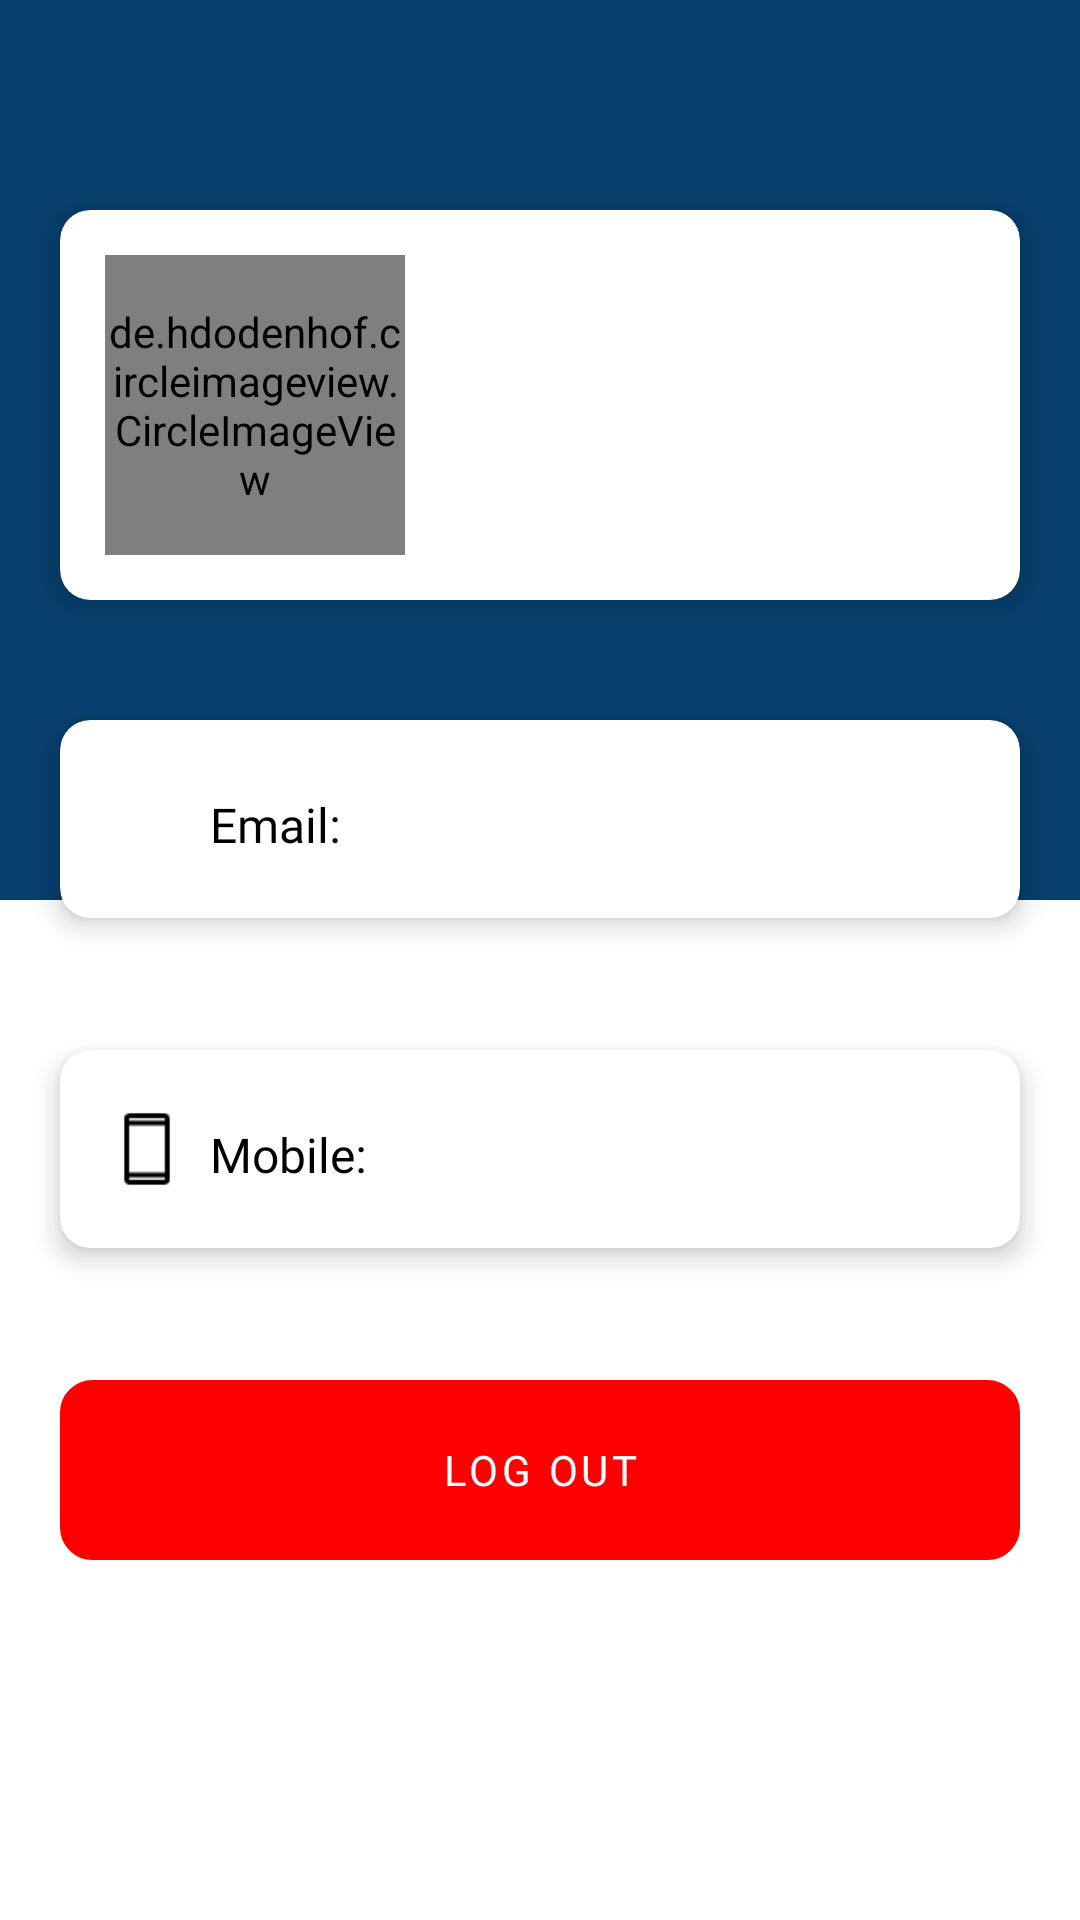

Icons on this 1080 × 1920 Android screen, each with its box as (x1, y1, x2, y2):
smartphone: (124, 1113, 170, 1185)
